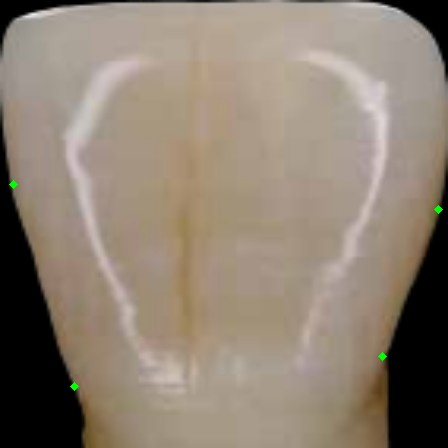coin_1: (74, 386, 94, 406)
coin_2: (13, 184, 33, 204)
coin_3: (382, 356, 402, 376)
coin_4: (438, 209, 448, 229)
